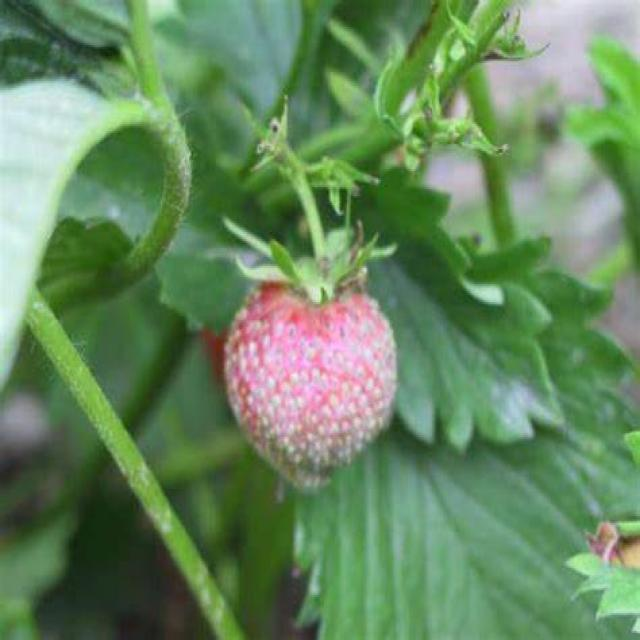Oído: (215, 266, 398, 504)
